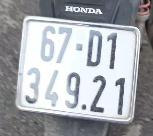1: (113, 75, 125, 116), (106, 31, 118, 71)
2: (91, 73, 107, 115)
3: (24, 66, 41, 105)
4: (44, 66, 61, 109)
6: (38, 24, 56, 63)
7: (57, 25, 74, 66)
9: (62, 66, 81, 110)
D: (86, 28, 104, 68)
